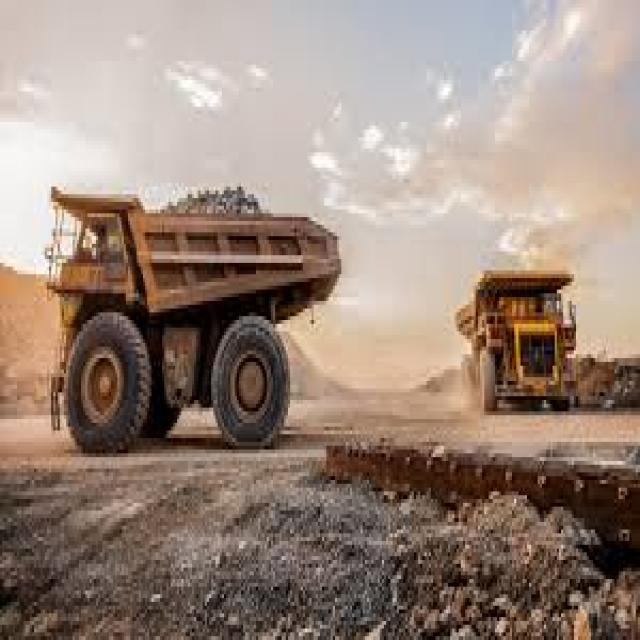dump_truck: (41, 152, 354, 484), (446, 228, 623, 454)
